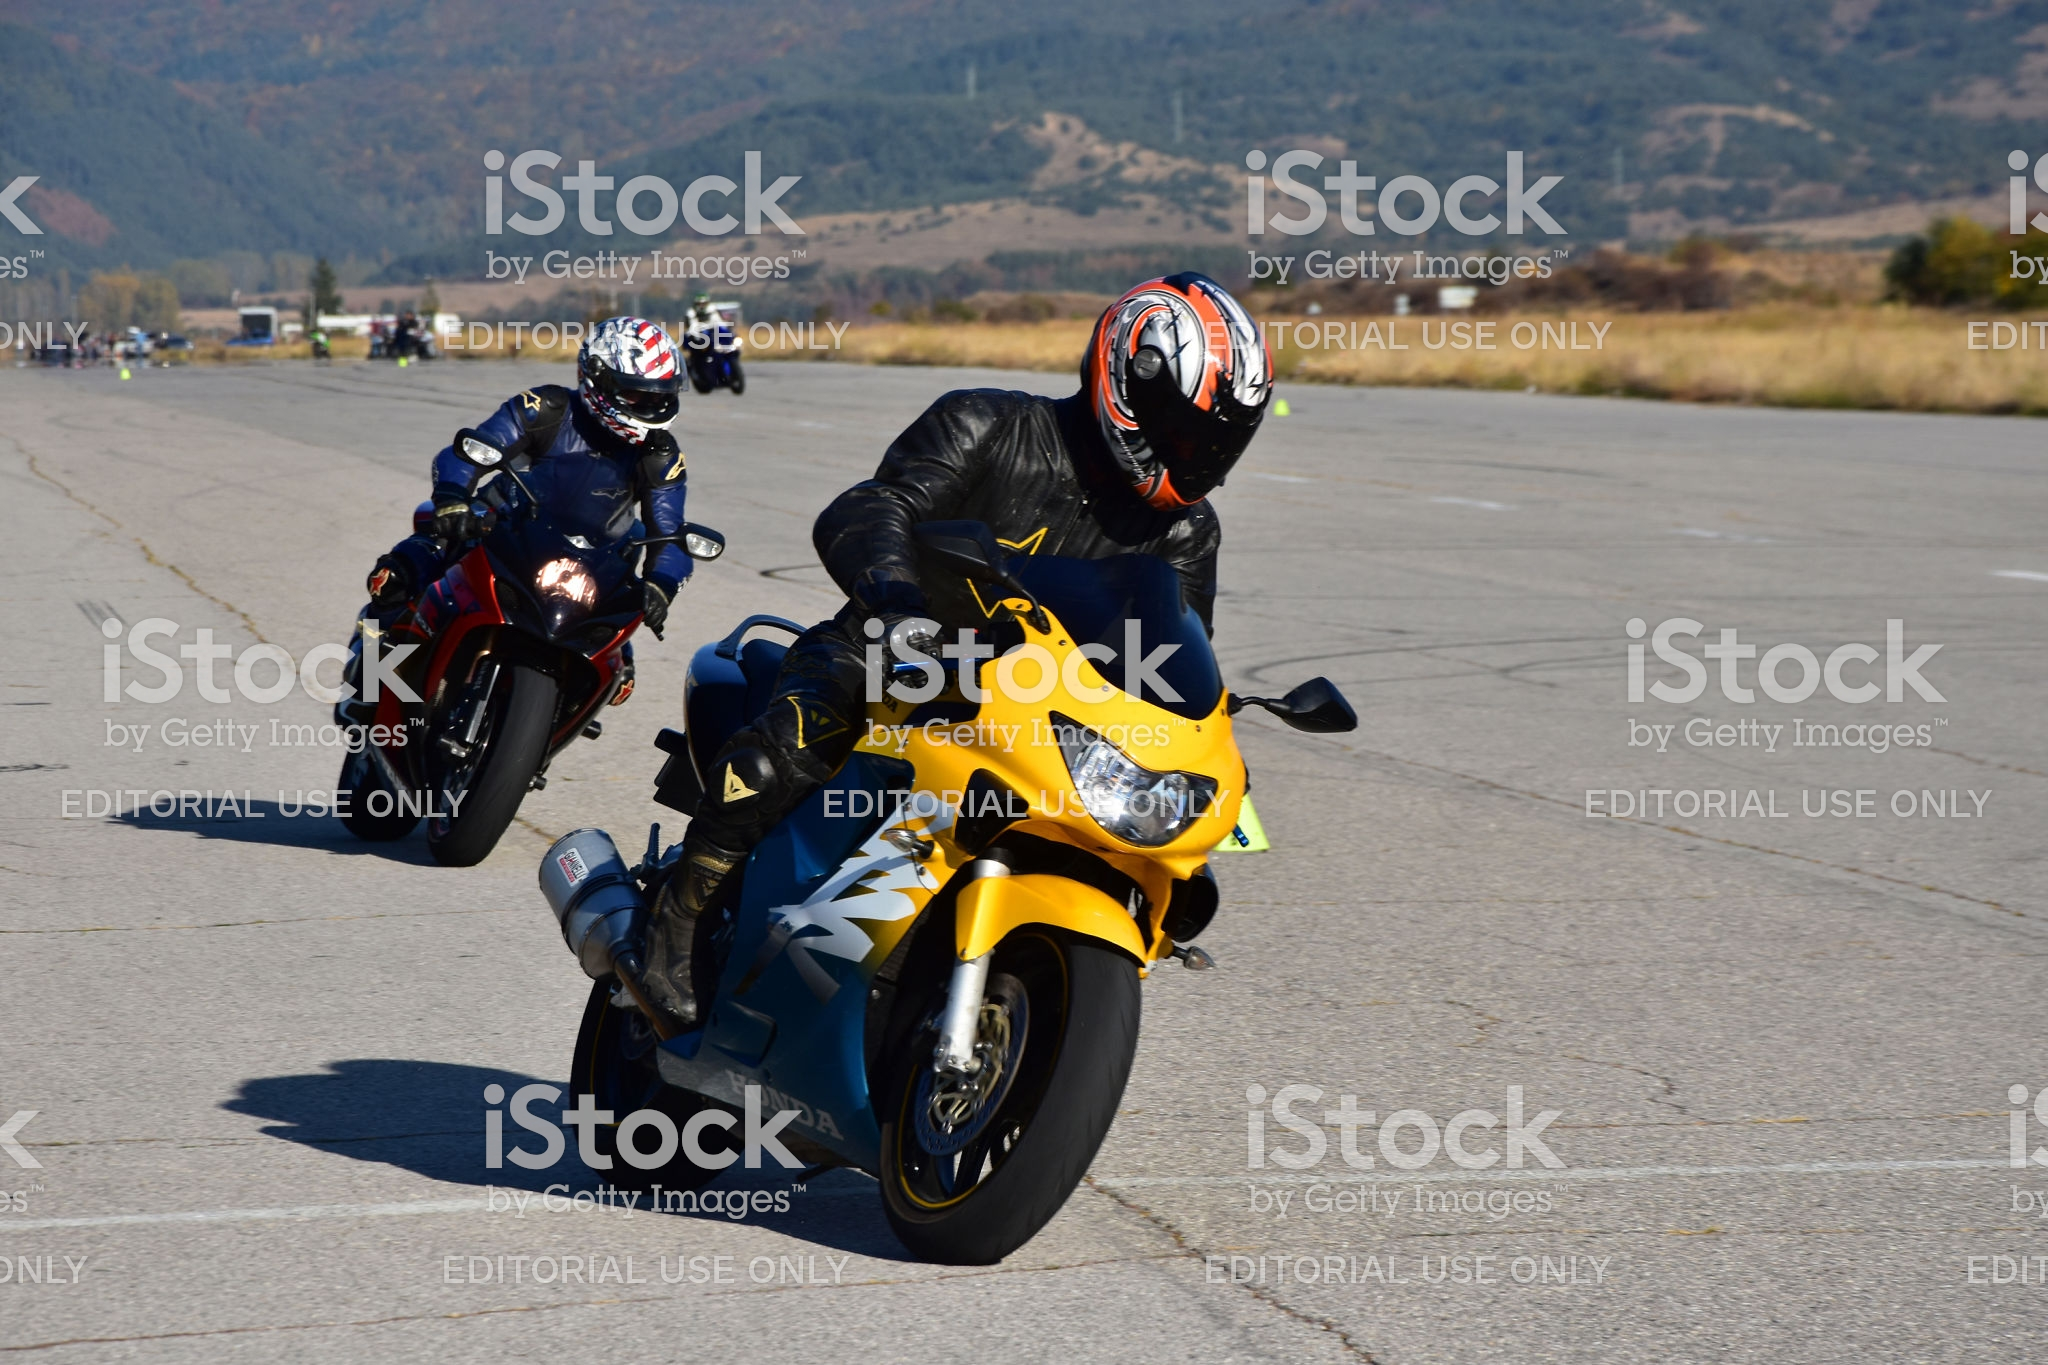helmet: (1069, 257, 1302, 510), (565, 323, 691, 443)
